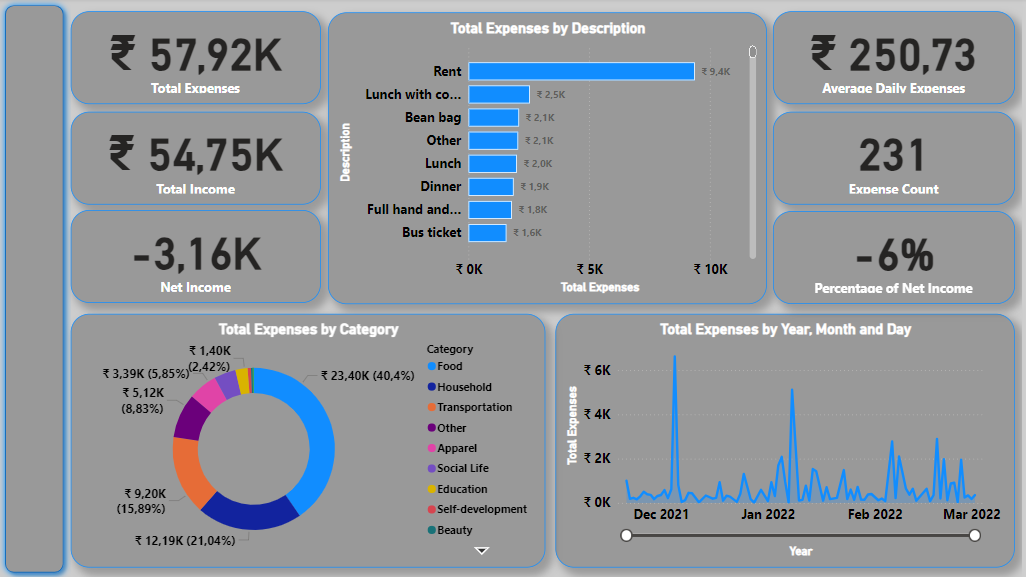

The page's visual inventory and layout, read from the dashboard file:
{"tool":"powerbi","page":{"name":"Expenses Dashboard","canvas":[1280,720],"ordinal":0},"visuals":[{"type":"card","fields":{"Values":["All Measures.Total Expenses"]},"box":[101.4,16.2,309.6,114.9],"z":0},{"type":"shape","box":[10.9,0,90.2,720.6],"z":1000},{"type":"card","fields":{"Values":["All Measures.Total Income"]},"box":[101.4,140.6,309.6,114.9],"z":2000},{"type":"card","fields":{"Values":["All Measures.Net Income"]},"box":[101.4,262.3,309.6,114.9],"z":3000},{"type":"clusteredBarChart","fields":{"Category":["expense_data_1.Description"],"Y":["All Measures.Total Expenses"]},"box":[420.4,17.6,543.5,361],"z":4000},{"type":"lineChart","fields":{"Category":["expense_data_1.Date.Variation.Date Hierarchy.Year","expense_data_1.Date.Variation.Date Hierarchy.Month","expense_data_1.Date.Variation.Date Hierarchy.Day"],"Y":["All Measures.Total Expenses"]},"box":[701.5,391.1,568.8,314.5],"z":5000},{"type":"donutChart","fields":{"Category":["expense_data_1.Category"],"Y":["All Measures.Total Expenses"]},"box":[101.2,391.1,588,314.5],"z":6000},{"type":"card","fields":{"Values":["All Measures.Average Daily Expenses"]},"box":[970.8,16.4,299.5,114.9],"z":7000},{"type":"card","fields":{"Values":["All Measures.Expense Count"]},"box":[970.8,140.8,299.5,114.9],"z":8000},{"type":"card","fields":{"Values":["All Measures.Percentage of Total Expenses by Category"]},"box":[970.8,263.9,299.5,114.9],"z":9000}]}

Visuals, with their boxes in screenshot pixels (x1, y1, x2, y2), scaled from the page's 1280x720 canvas onto the 1026x577 screenshot:
card - All Measures.Total Expenses: (81,13,329,105)
shape: (9,0,81,576)
card - All Measures.Total Income: (81,113,329,205)
card - All Measures.Net Income: (81,210,329,302)
clusteredBarChart - expense_data_1.Description x All Measures.Total Expenses: (337,14,773,303)
lineChart - expense_data_1.Date.Variation.Date Hierarchy.Year x expense_data_1.Date.Variation.Date Hierarchy.Month: (562,313,1018,565)
donutChart - expense_data_1.Category x All Measures.Total Expenses: (81,313,552,565)
card - All Measures.Average Daily Expenses: (778,13,1018,105)
card - All Measures.Expense Count: (778,113,1018,205)
card - All Measures.Percentage of Total Expenses by Category: (778,211,1018,304)
